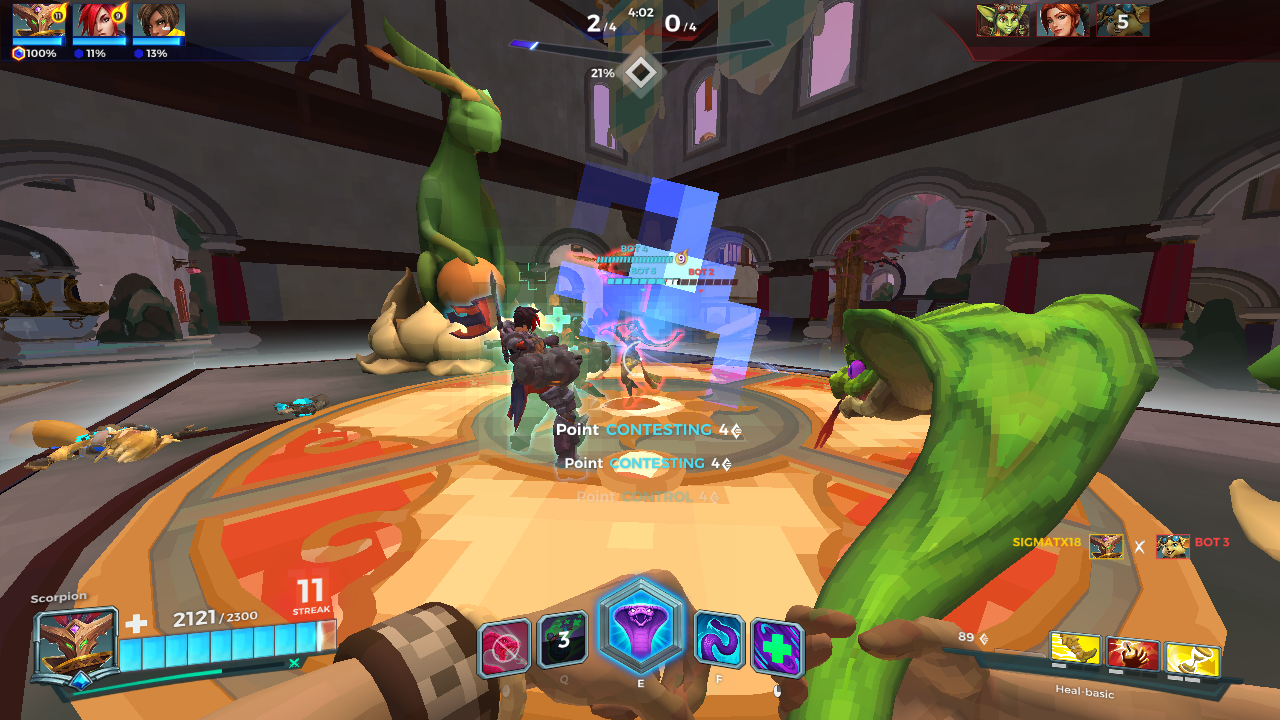model: (607, 311, 653, 397)
